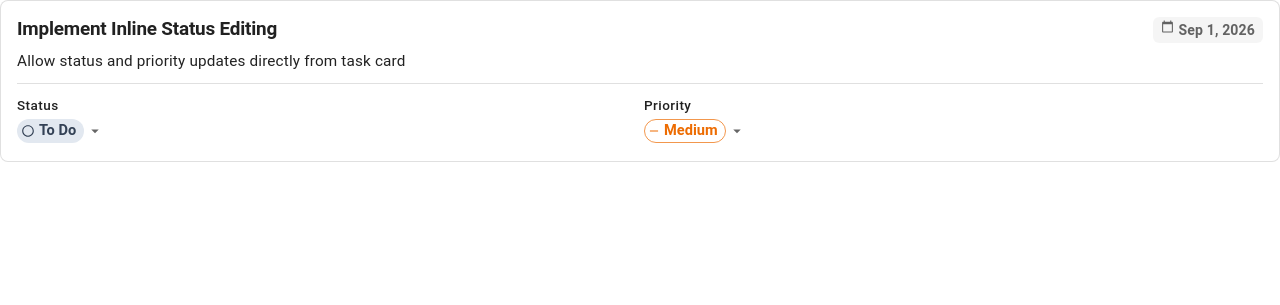
Test: TaskCard & Inline Editing Components › Status dropdown opens on click and displays available status options
Step 1. Click the button with aria-label "change status for task" → point(61, 131), box [17,119,104,143]
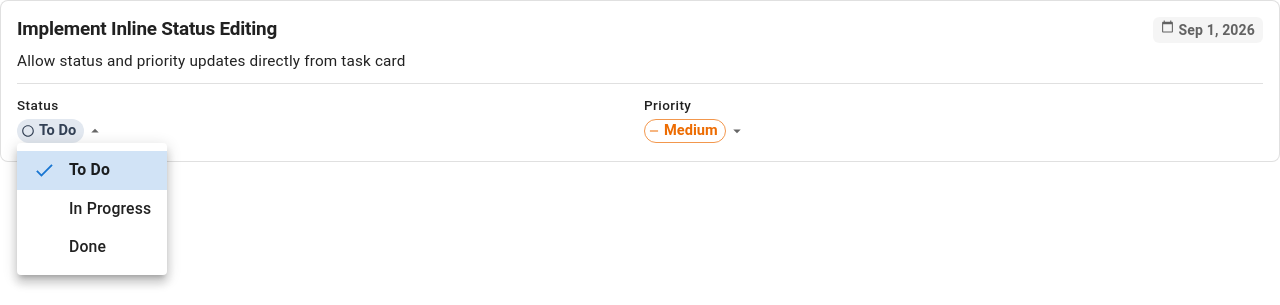
Expected: the text "In Progress" is shown, [69,198,151,220]
Expected: the text "Done" is shown, [69,237,106,256]
